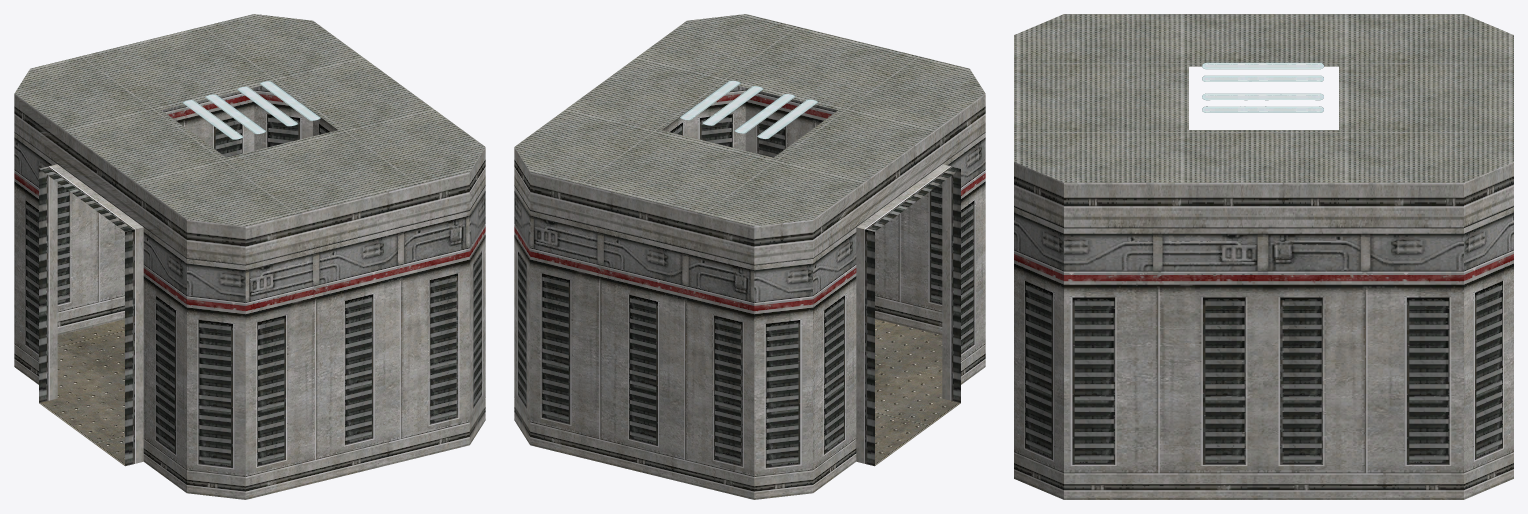
File: mun_all_military_storage_shed_rebl_s01_r5_room2_mesh_room2.fbx
3 views of the same model, side by side, from view 1: azimuth 30°, elevation 25°; view 2: azimuth 150°, elevation 25°; view 3: azimuth 270°, elevation 25° (orthographic). The views are drawn at different scales.
Visible parts, largest first — view 1: mesh_node; view 2: mesh_node; view 3: mesh_node.
Boxes of the visible parts, x1,y1,x2,y2 form: mesh_node: (14,14,485,499); mesh_node: (514,14,985,499); mesh_node: (1014,14,1513,499).
Size of the model in its own units: 4.25 by 3.63 by 5.
